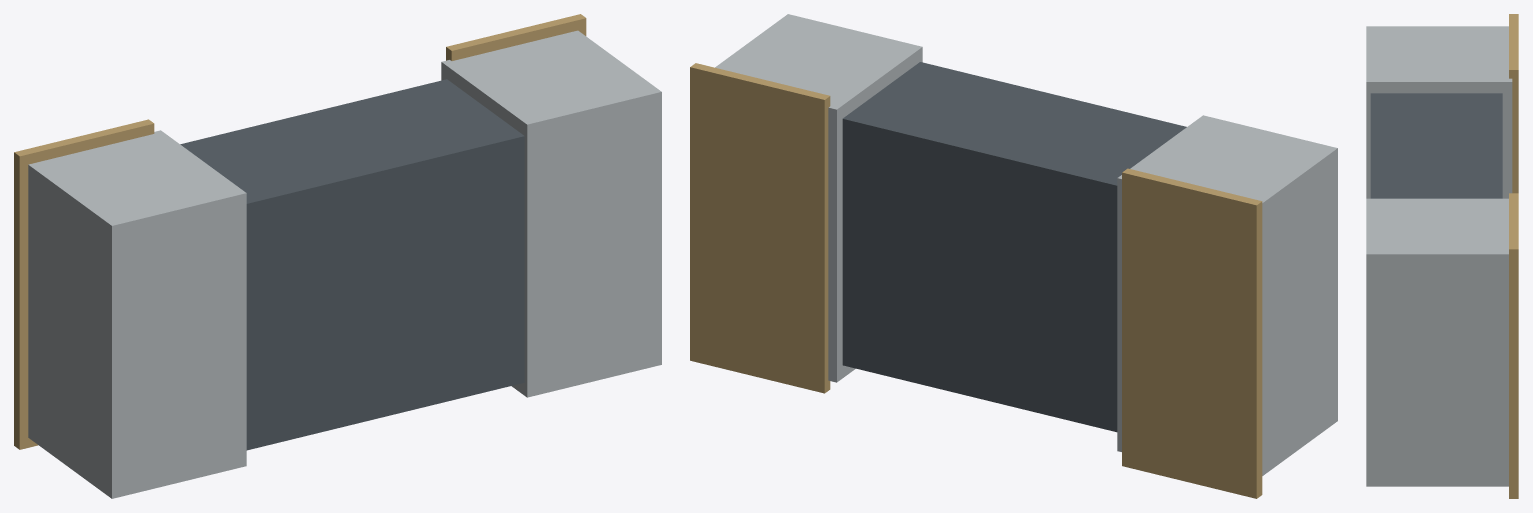
The picture shows the model from 3 angles, left to right: view 1: azimuth 30°, elevation 25°; view 2: azimuth 150°, elevation 25°; view 3: azimuth 270°, elevation 25°; orthographic projection. The views are drawn at different scales.
Visible parts, largest first — view 1: PART_000_Ceramic_Black, PART_001_Lead_Tin, PART_003_Lead_Tin, PART_002_Copper_Gold, PART_004_Copper_Gold; view 2: PART_000_Ceramic_Black, PART_002_Copper_Gold, PART_004_Copper_Gold, PART_001_Lead_Tin, PART_003_Lead_Tin; view 3: PART_003_Lead_Tin, PART_000_Ceramic_Black, PART_001_Lead_Tin, PART_004_Copper_Gold, PART_002_Copper_Gold.
Part boxes in pixels (x1,y1,x2,y2): PART_000_Ceramic_Black: (180,79,524,450); PART_001_Lead_Tin: (28,130,246,498); PART_003_Lead_Tin: (441,30,661,397); PART_002_Copper_Gold: (14,119,154,449); PART_004_Copper_Gold: (446,14,586,60); PART_000_Ceramic_Black: (842,62,1186,432); PART_002_Copper_Gold: (1122,168,1262,498); PART_004_Copper_Gold: (690,63,830,393); PART_001_Lead_Tin: (1117,115,1337,475); PART_003_Lead_Tin: (715,14,922,382); PART_003_Lead_Tin: (1366,198,1508,486); PART_000_Ceramic_Black: (1370,93,1502,198); PART_001_Lead_Tin: (1366,26,1512,198); PART_004_Copper_Gold: (1509,193,1518,498); PART_002_Copper_Gold: (1509,14,1518,193).
Size of the model in its own units: 0.00202 by 0.001 by 0.000553.
